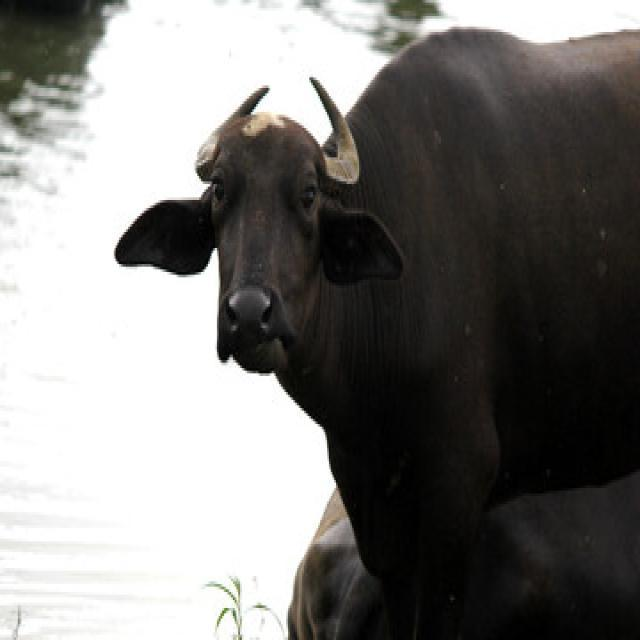Buffalo: (112, 19, 638, 637)
